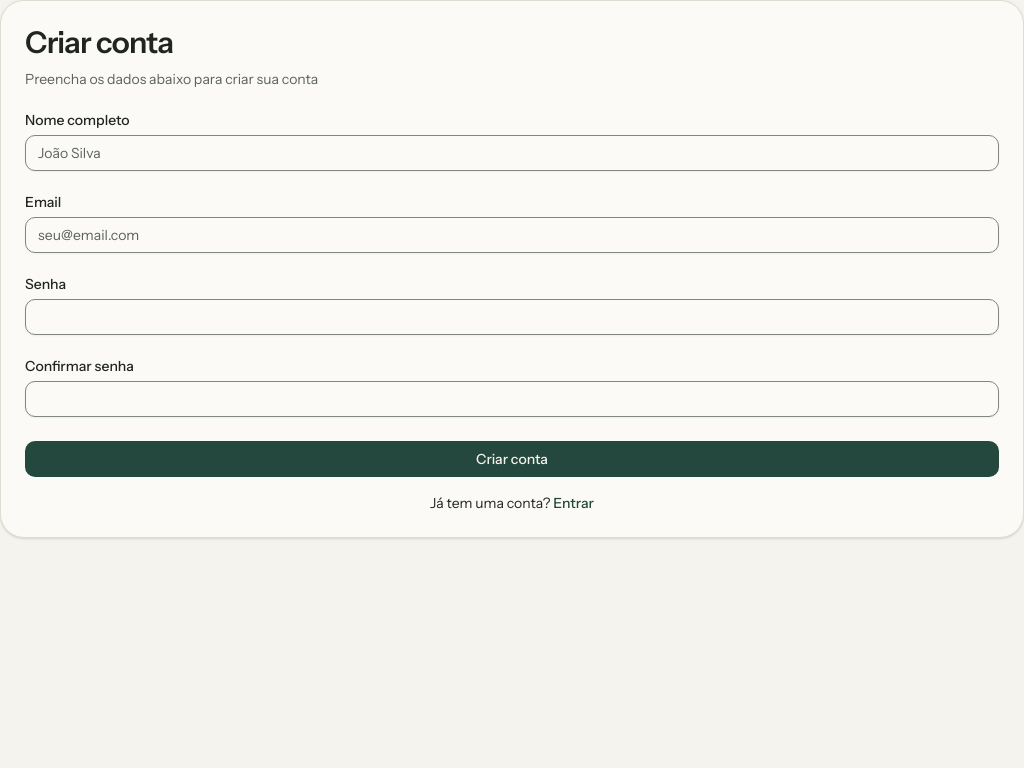
Test: SignUpPage › erro do GoTrue não redireciona e aparece na tela
In the field labelled "Nome completo": (512, 153) [25,135,999,171], type "Fulano de Tal"
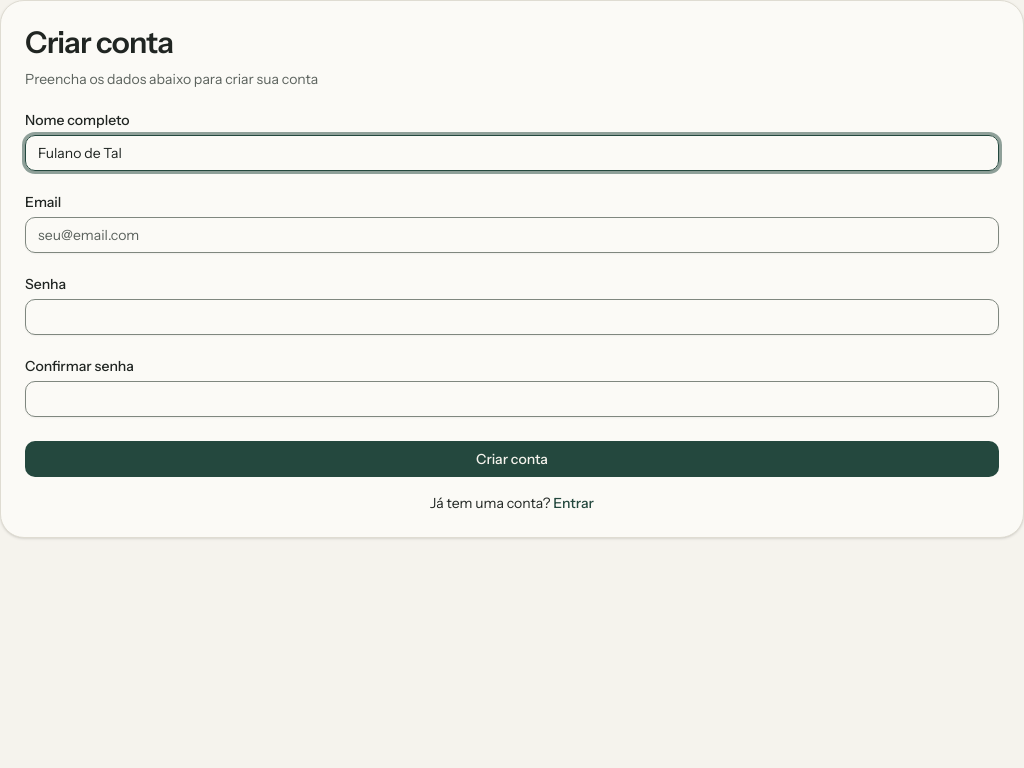
In the field labelled "Email": (512, 235) [25,217,999,253], type "novo@viajamais.local"
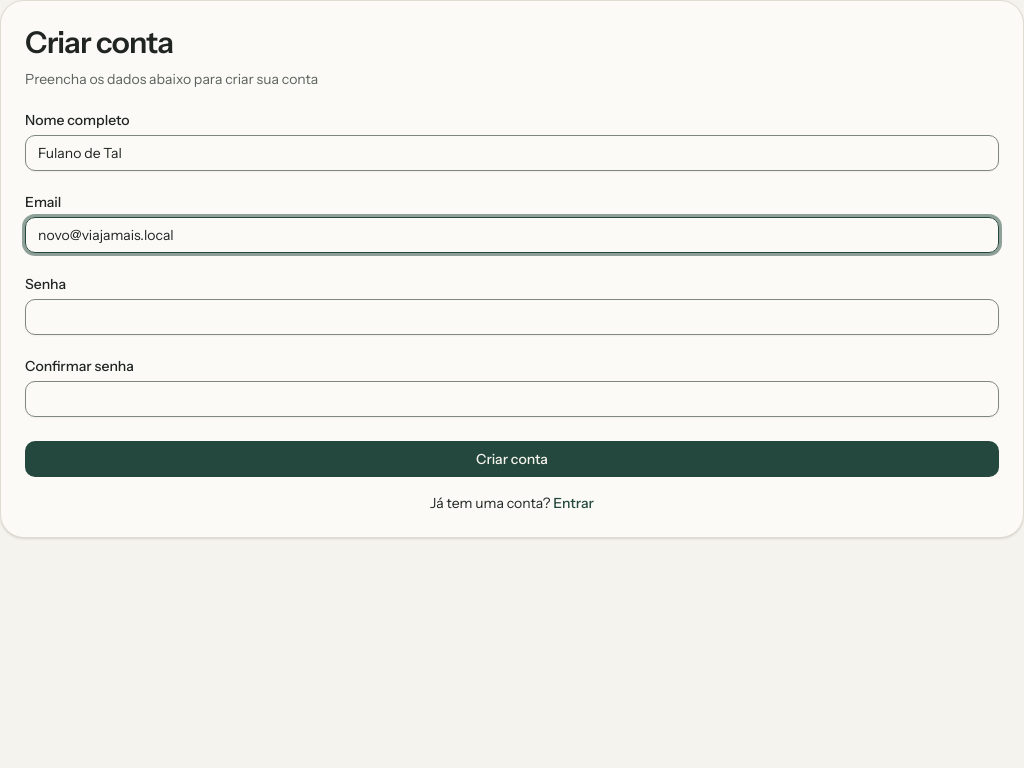
In the password field labelled "Senha": (512, 317) [25,299,999,335], type "Viaja+mais123"
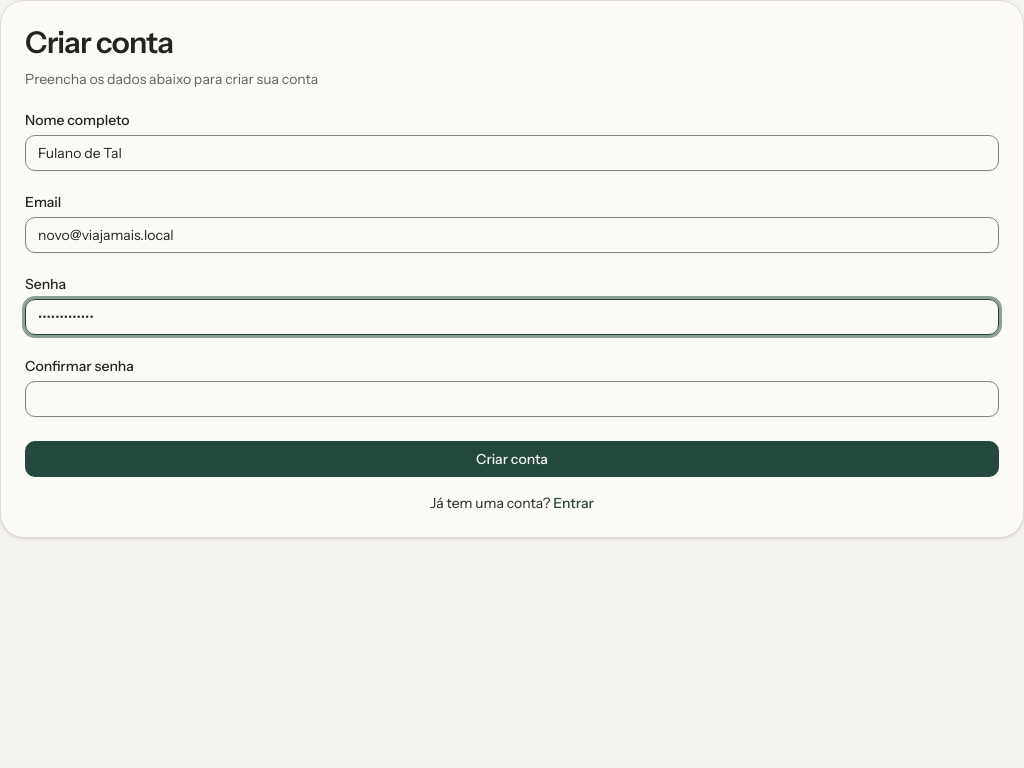
In the password field labelled "Confirmar senha": (512, 399) [25,381,999,417], type "Viaja+mais123"
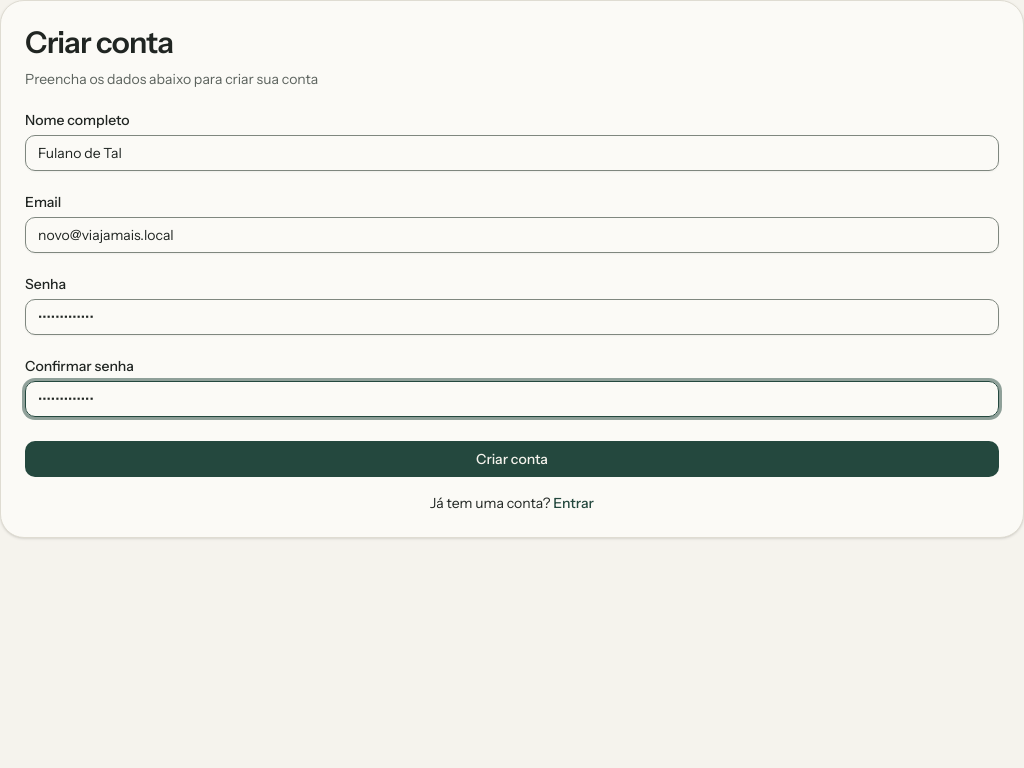
Click the button "Criar conta": (512, 459) [25,441,999,477]
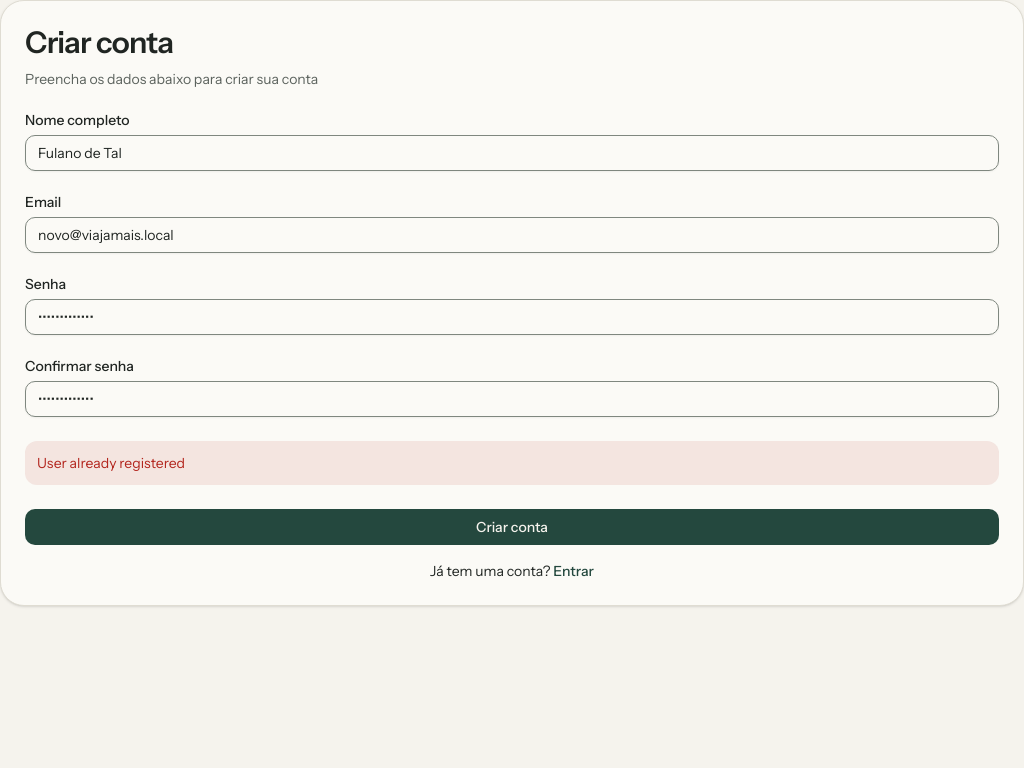
Result: the text "User already registered" is shown at [25,441,999,485]
